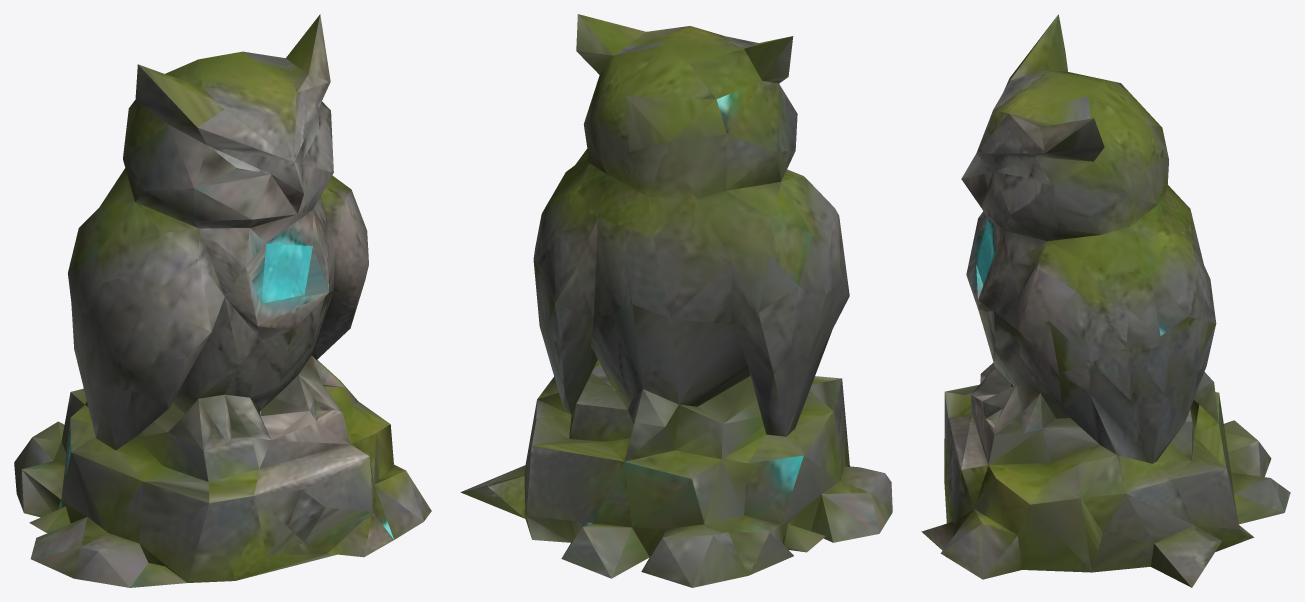
The model's file is estatua_piedra_600.glb.
3 renders of one model, left to right at view 1: azimuth 30°, elevation 25°; view 2: azimuth 150°, elevation 25°; view 3: azimuth 270°, elevation 25°, orthographic. The views are drawn at different scales.
Visible parts, largest first — view 1: estatua_piedra_malla; view 2: estatua_piedra_malla; view 3: estatua_piedra_malla.
Part boxes in pixels (x1,y1,x2,y2): estatua_piedra_malla: (14,14,431,587); estatua_piedra_malla: (460,14,892,587); estatua_piedra_malla: (921,14,1290,587).
Size of the model in its own units: 0.2936 by 0.368 by 0.2727.
1 material, 1 textured.
